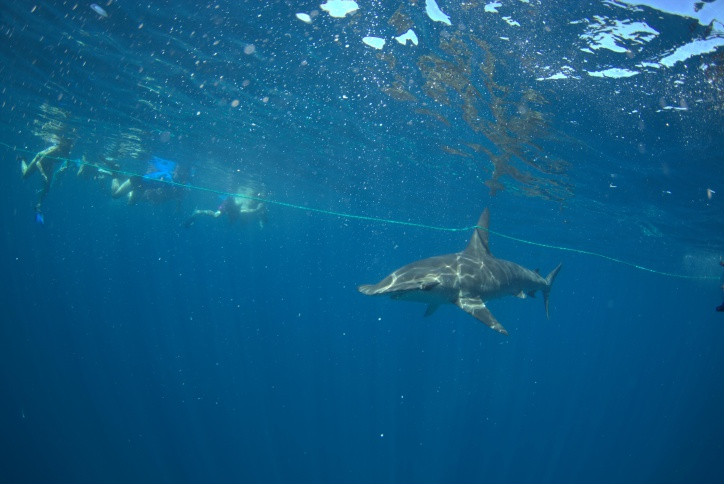Hammer: (233, 194, 649, 382), (358, 199, 566, 346)
